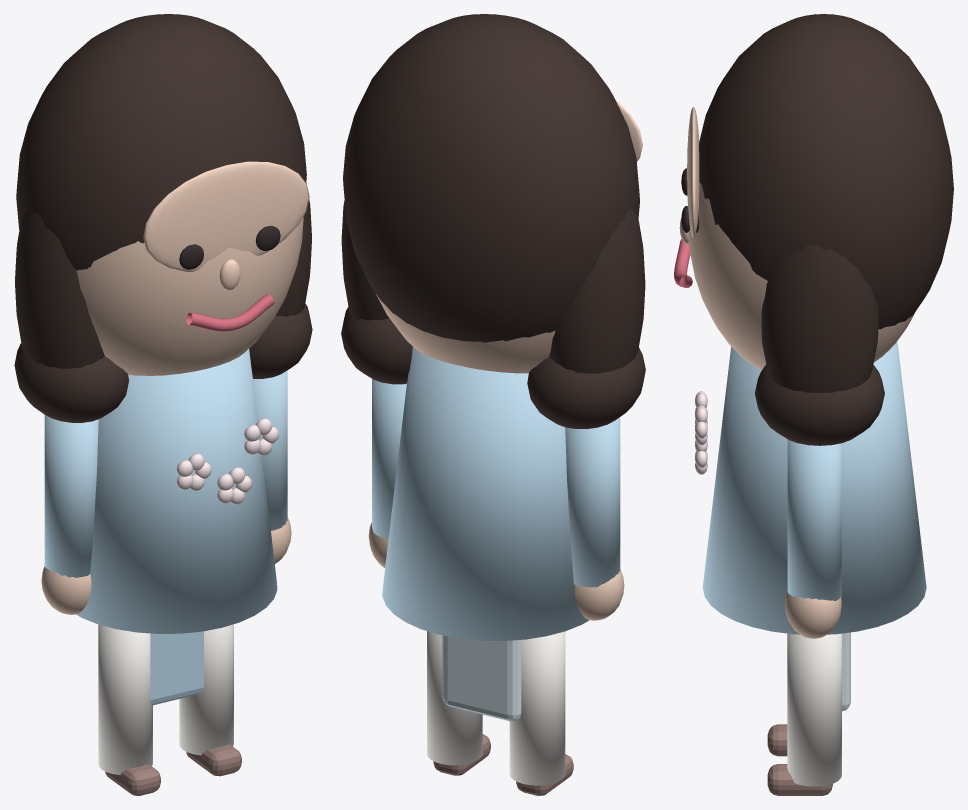
Rendered from teacher_mom_chibi.glb.
3 views of the same model, side by side, from view 1: azimuth 30°, elevation 25°; view 2: azimuth 150°, elevation 25°; view 3: azimuth 270°, elevation 25° (orthographic). The views are drawn at different scales.
Parts seen in each view (by area): view 1: Hair_Cap, AoDai_Torso, Face, Forehead_FaceLayer, Hair_Side_L, Arm_L_Mesh, Leg_L_Mesh, Hair_Curl_L, Leg_R_Mesh, AoDai_Panel_Front, Arm_R_Mesh, Hair_Curl_R (+6 smaller); view 2: Hair_Cap, AoDai_Torso, Hair_Side_L, Arm_L_Mesh, Leg_L_Mesh, Hair_Curl_L, AoDai_Panel_Back, Face, Leg_R_Mesh, Arm_R_Mesh, Hair_Curl_R, Hair_Side_R (+3 smaller); view 3: Hair_Cap, AoDai_Torso, Hair_Side_R, Arm_R_Mesh, Leg_R_Mesh, Face, Hair_Curl_R, Hand_R, Forehead_FaceLayer, Shoe_R, AoDai_Panel_Back, Smile (+1 smaller).
Boxes of the visible parts, box(x1,y1,x2,y2) form: Hair_Cap: box(16, 14, 306, 270); AoDai_Torso: box(76, 349, 277, 633); Face: box(76, 217, 303, 375); Forehead_FaceLayer: box(143, 161, 309, 271); Hair_Side_L: box(15, 212, 104, 368); Arm_L_Mesh: box(44, 415, 98, 577); Leg_L_Mesh: box(98, 624, 152, 774); Hair_Curl_L: box(14, 343, 128, 422); Leg_R_Mesh: box(179, 624, 233, 755); AoDai_Panel_Front: box(150, 631, 203, 705); Arm_R_Mesh: box(253, 370, 287, 530); Hair_Curl_R: box(249, 303, 312, 378); Hair_Cap: box(343, 14, 639, 342); AoDai_Torso: box(382, 346, 589, 640); Hair_Side_L: box(549, 208, 645, 373); Arm_L_Mesh: box(565, 417, 620, 587); Leg_L_Mesh: box(509, 631, 565, 785); Hair_Curl_L: box(527, 347, 645, 428); AoDai_Panel_Back: box(442, 635, 521, 721); Face: box(376, 294, 555, 373); Leg_R_Mesh: box(427, 631, 482, 765); Arm_R_Mesh: box(372, 379, 406, 539); Hair_Curl_R: box(341, 307, 412, 384); Hair_Side_R: box(341, 200, 389, 320); Hair_Cap: box(699, 14, 953, 329); AoDai_Torso: box(702, 341, 926, 634); Hair_Side_R: box(761, 244, 879, 392); Arm_R_Mesh: box(787, 439, 841, 601); Leg_R_Mesh: box(787, 633, 841, 786); Face: box(688, 182, 914, 369); Hair_Curl_R: box(754, 365, 884, 445); Hand_R: box(785, 588, 841, 638); Forehead_FaceLayer: box(687, 107, 699, 237); Shoe_R: box(767, 764, 832, 795); AoDai_Panel_Back: box(842, 632, 850, 711); Smile: box(674, 239, 692, 287).
Size of the model in its own units: 1.24 by 3.16 by 1.07.
